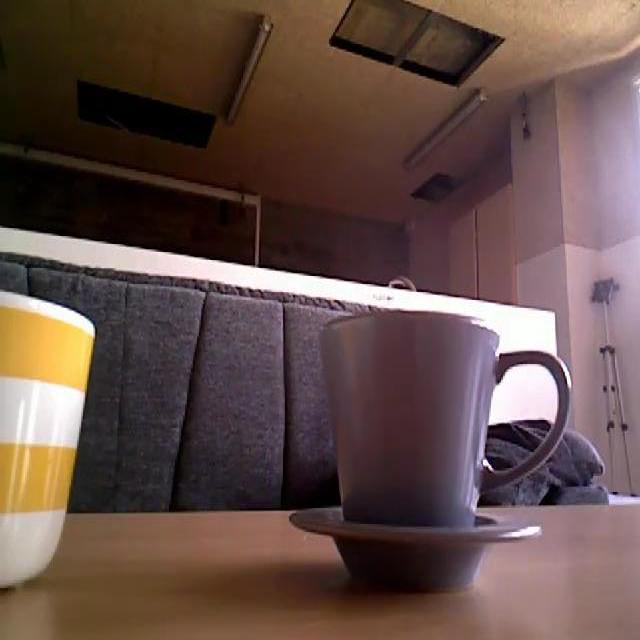cup: (290, 308, 570, 603)
